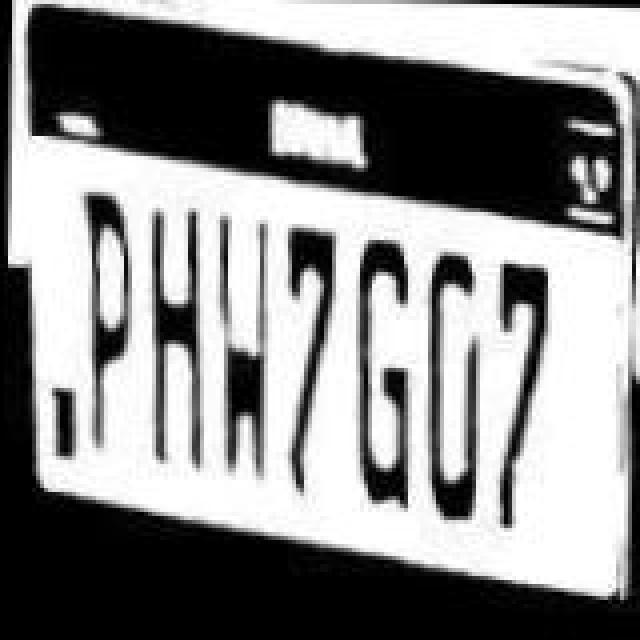7: (478, 246, 566, 534), (264, 212, 340, 496)
D: (416, 244, 484, 528)
G: (342, 210, 430, 510)
H: (136, 184, 216, 472)
P: (66, 184, 134, 456)
W: (196, 188, 284, 492)
